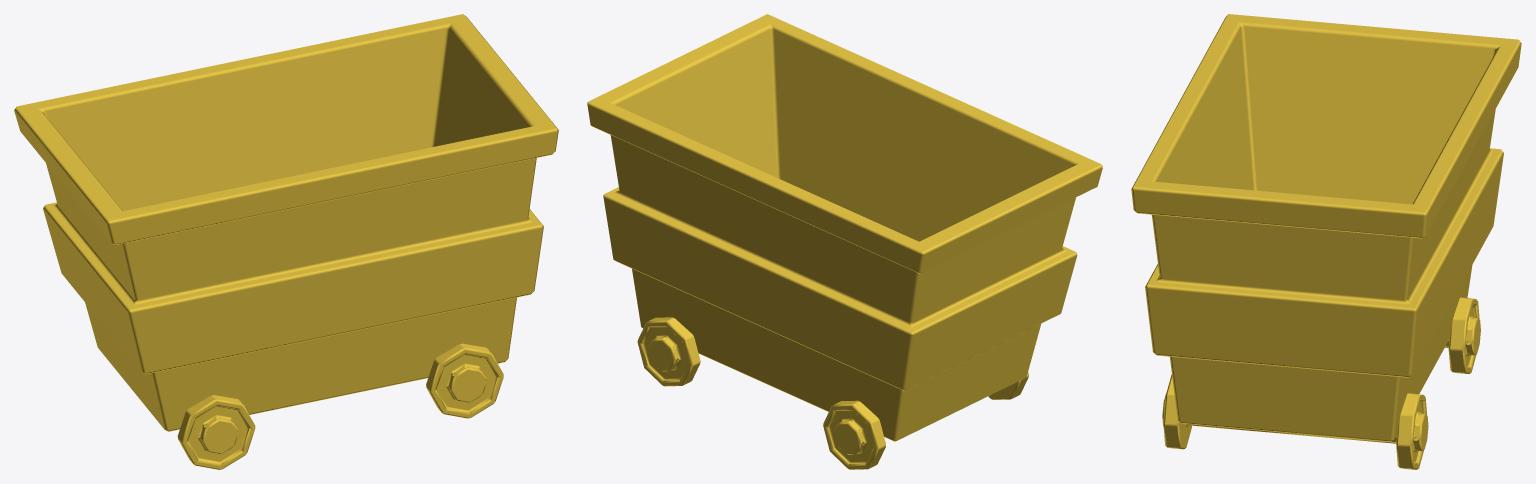
The model's file is MinecartHigh2.fbx.
3 renders of one model, left to right at view 1: azimuth 30°, elevation 25°; view 2: azimuth 150°, elevation 25°; view 3: azimuth 270°, elevation 25°, orthographic. The views are drawn at different scales.
Visible parts, largest first — view 1: Minecart, MinecartWheels; view 2: Minecart, MinecartWheels; view 3: Minecart, MinecartWheels.
Part boxes in pixels (x1,y1,x2,y2): Minecart: (14, 14, 558, 431); MinecartWheels: (177, 343, 503, 469); Minecart: (587, 14, 1102, 441); MinecartWheels: (637, 317, 1028, 469); Minecart: (1131, 14, 1521, 441); MinecartWheels: (1162, 297, 1480, 469).
Bounding box in the file's own units: 15.3 × 11.06 × 9.79.
